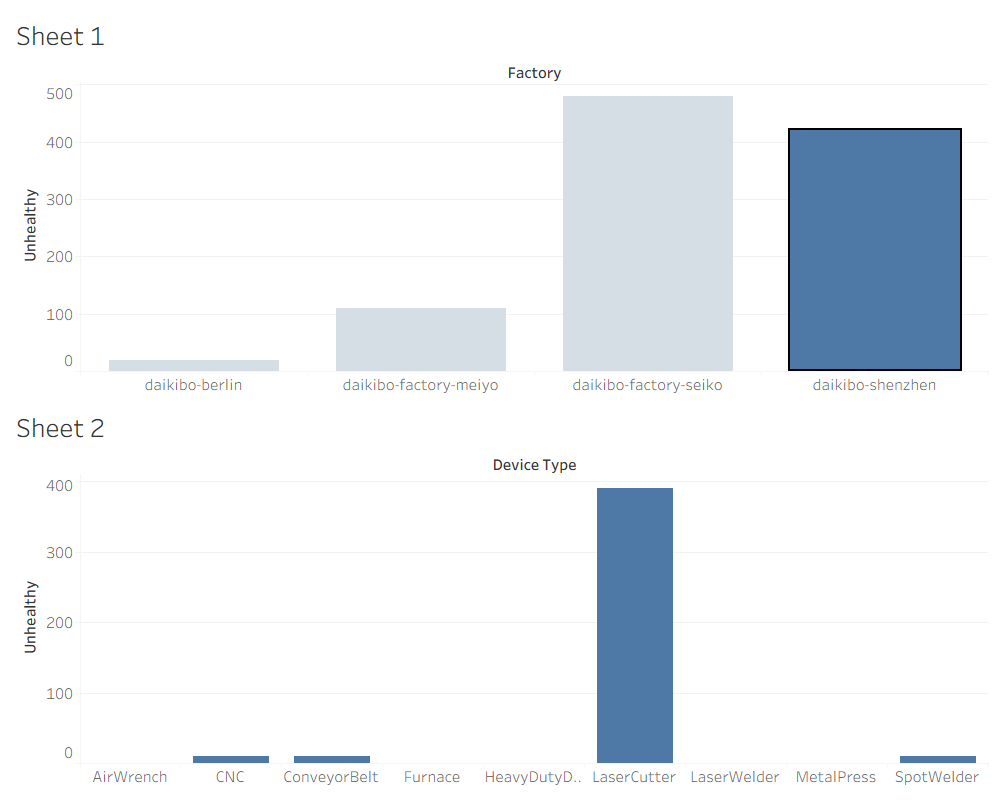

The page's visual inventory and layout, read from the dashboard file:
{"tool":"tableau","page":{"name":"Dashboard 1","canvas":[1000,800],"ordinal":0},"visuals":[{"type":"worksheet","title":"Sheet 1","mark":"Automatic","rows":["Calculation_1024507278340096"],"cols":["factory"],"box":[8,8,984,392]},{"type":"worksheet","title":"Sheet 2","mark":"Automatic","rows":["Calculation_1024507278340096"],"cols":["deviceType"],"box":[8,400,984,392]}]}

Visuals, with their boxes in screenshot pixels (x1, y1, x2, y2), scaled from the page's 1000x800 canvas onto the 1000x800 screenshot:
"Sheet 1" worksheet: 8:8:992:400
"Sheet 2" worksheet: 8:400:992:792
